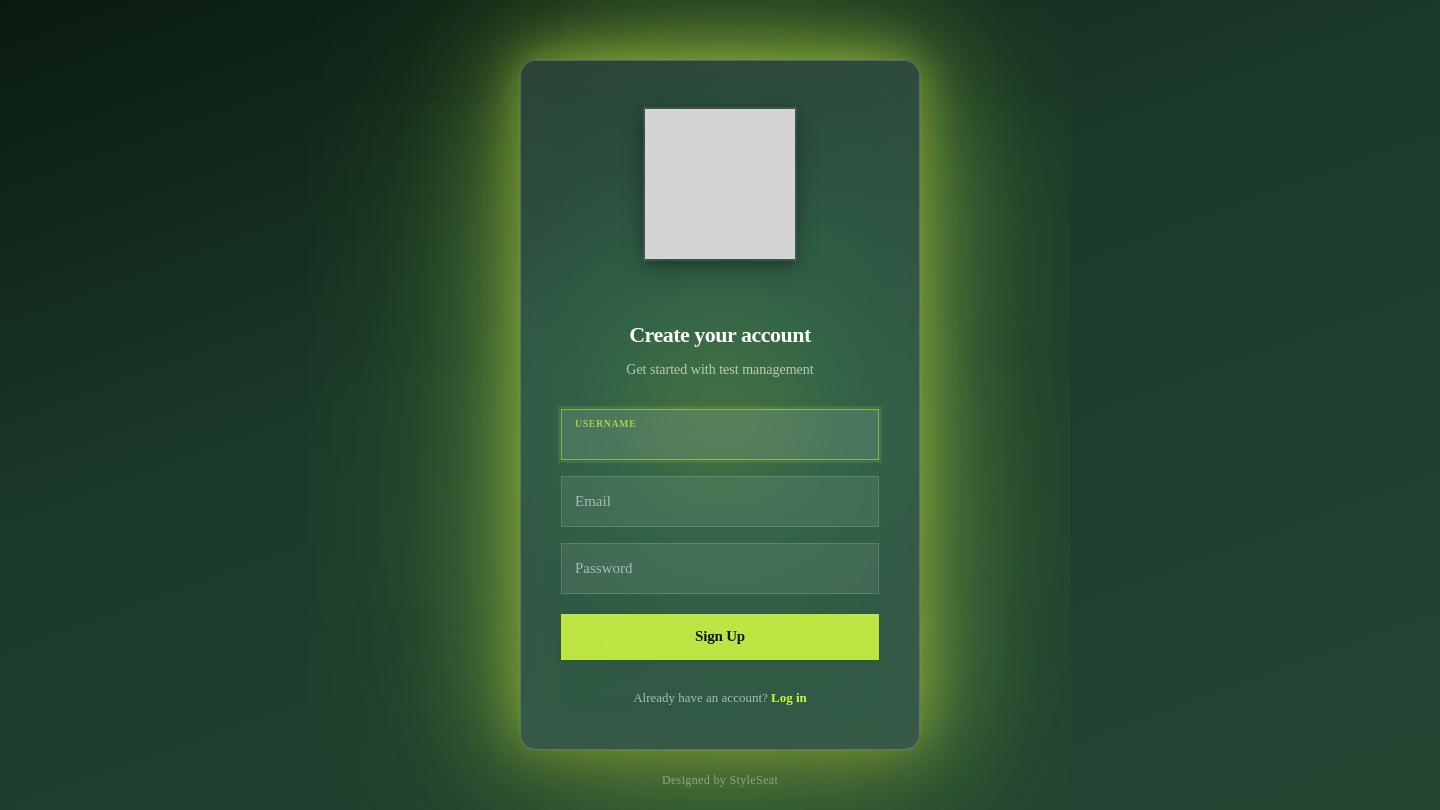
RegisterPage › shows fallback error when no response data
Type "newuser" into the field labelled "Username" at x=720, y=434, box x1=561 y1=409 x2=879 y2=460
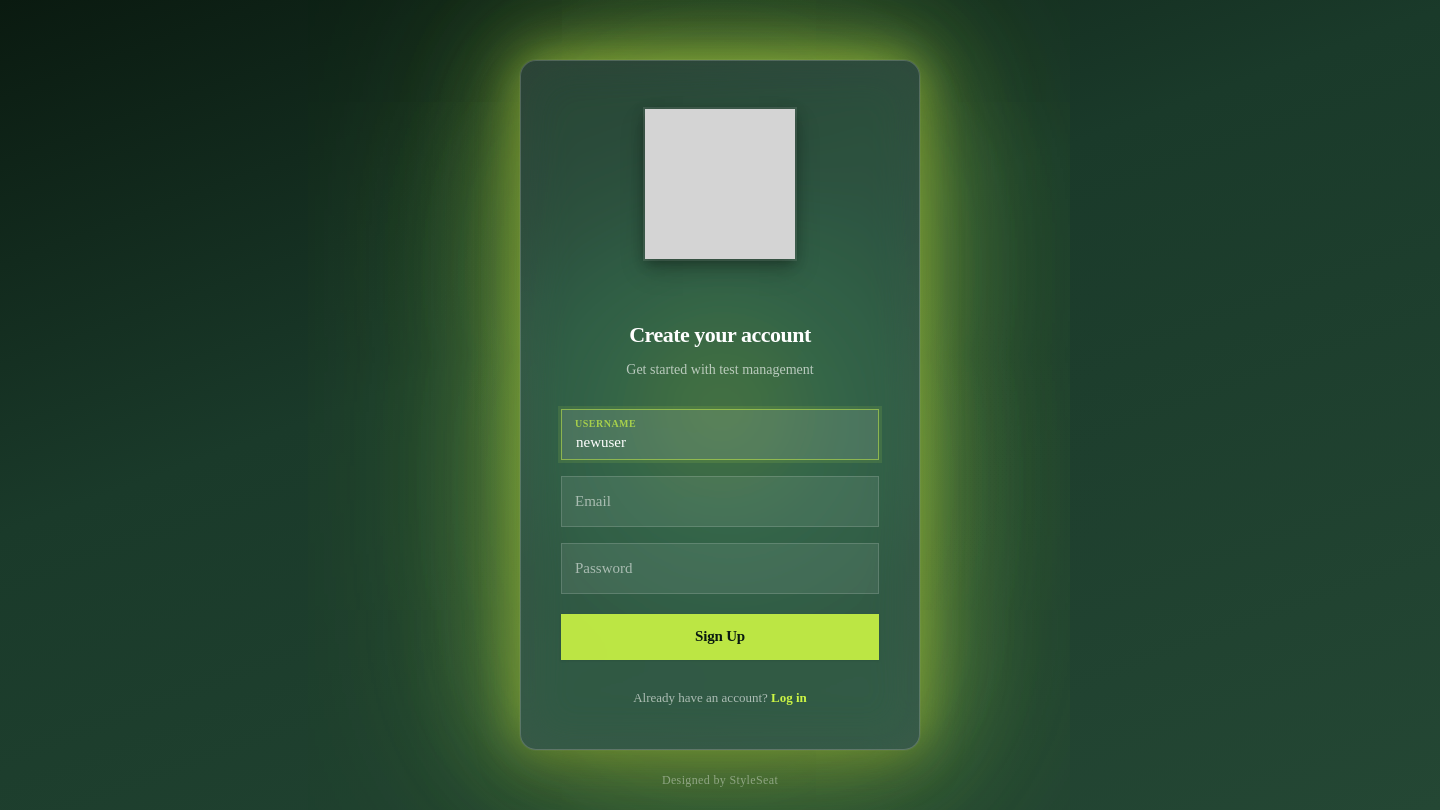
Type "new@styleseat.com" into the field labelled "Email" at x=720, y=501, box x1=561 y1=476 x2=879 y2=527
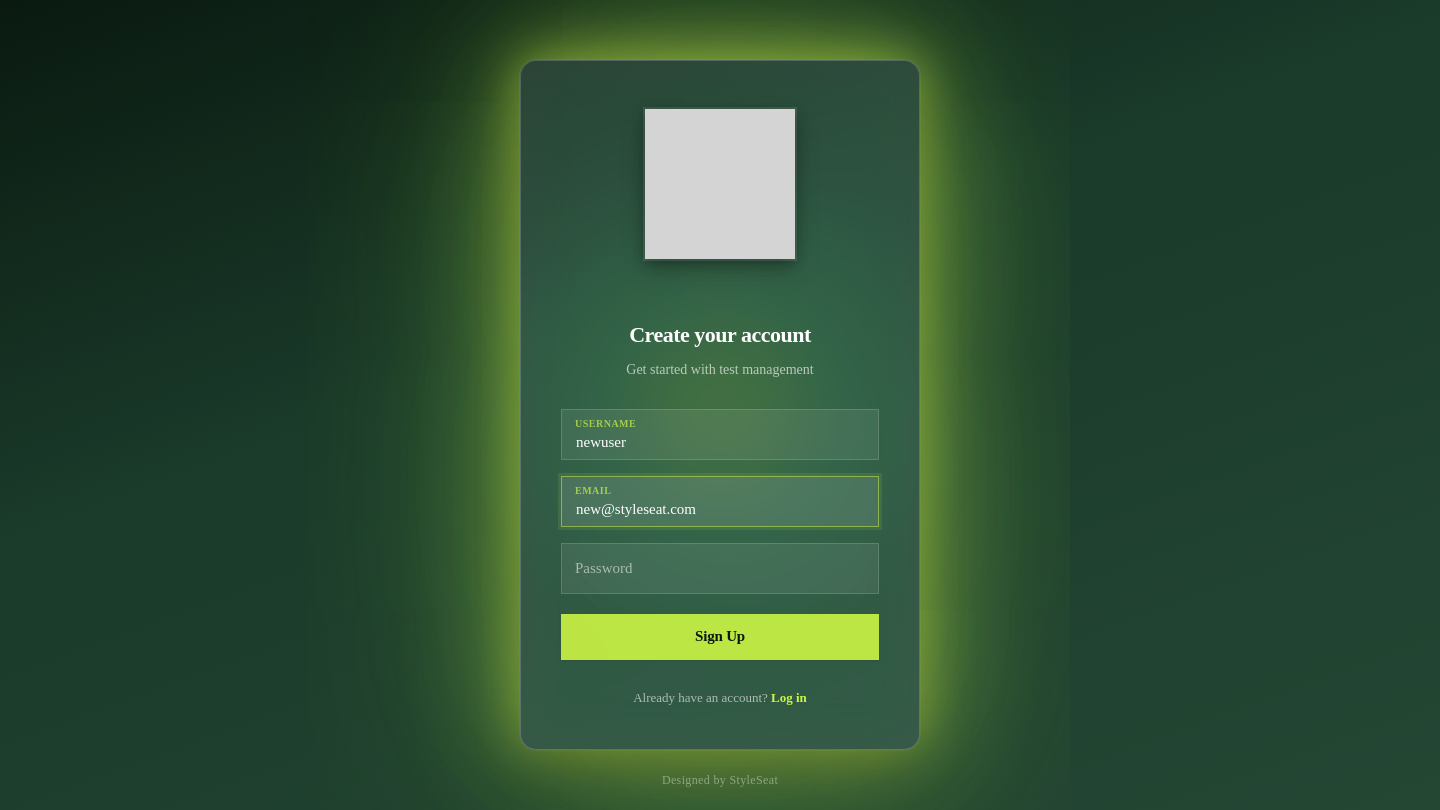
Type "Pass1234" into the password field labelled "Password" at x=720, y=568, box x1=561 y1=543 x2=879 y2=594
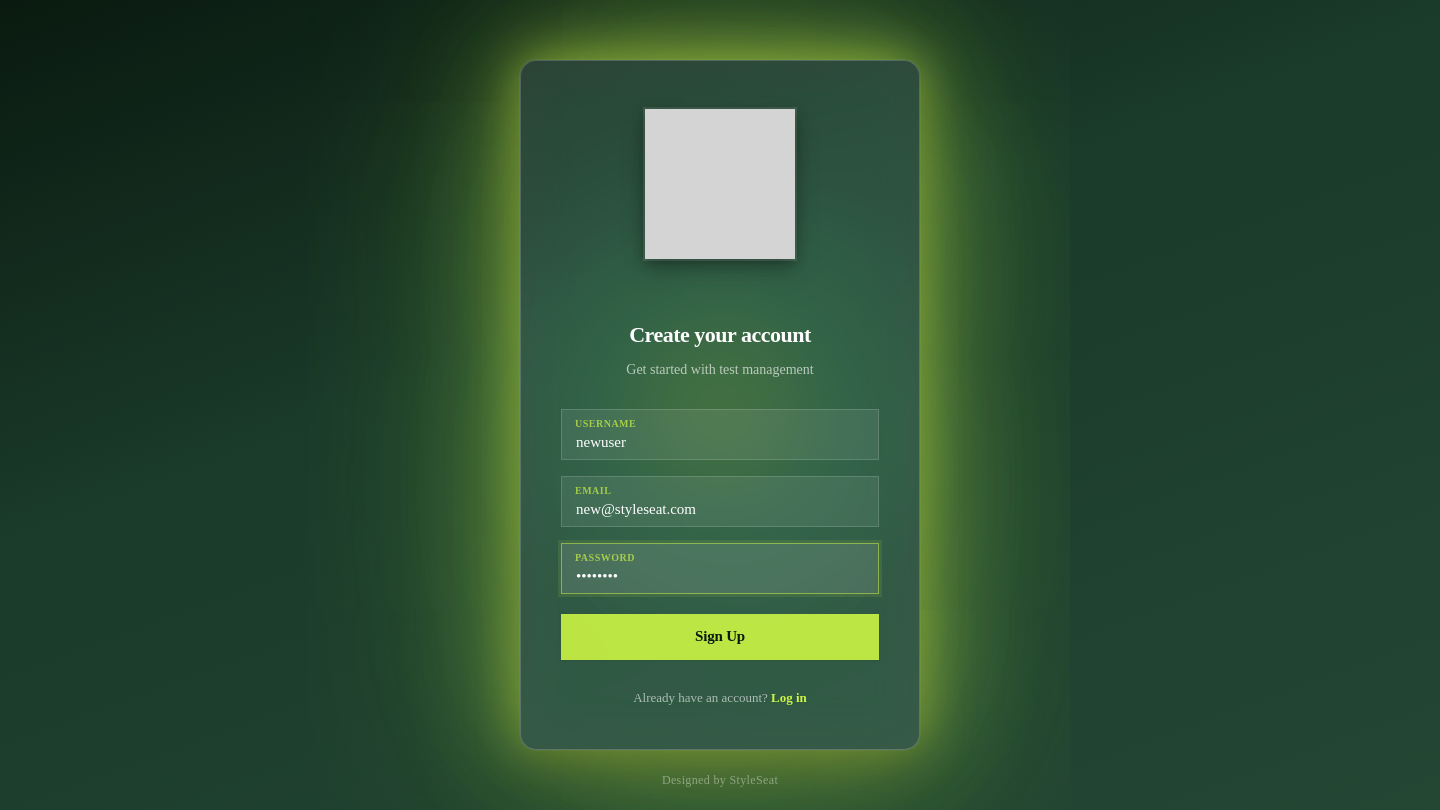
Click the button "Sign Up" at x=720, y=637, box x1=561 y1=614 x2=879 y2=660
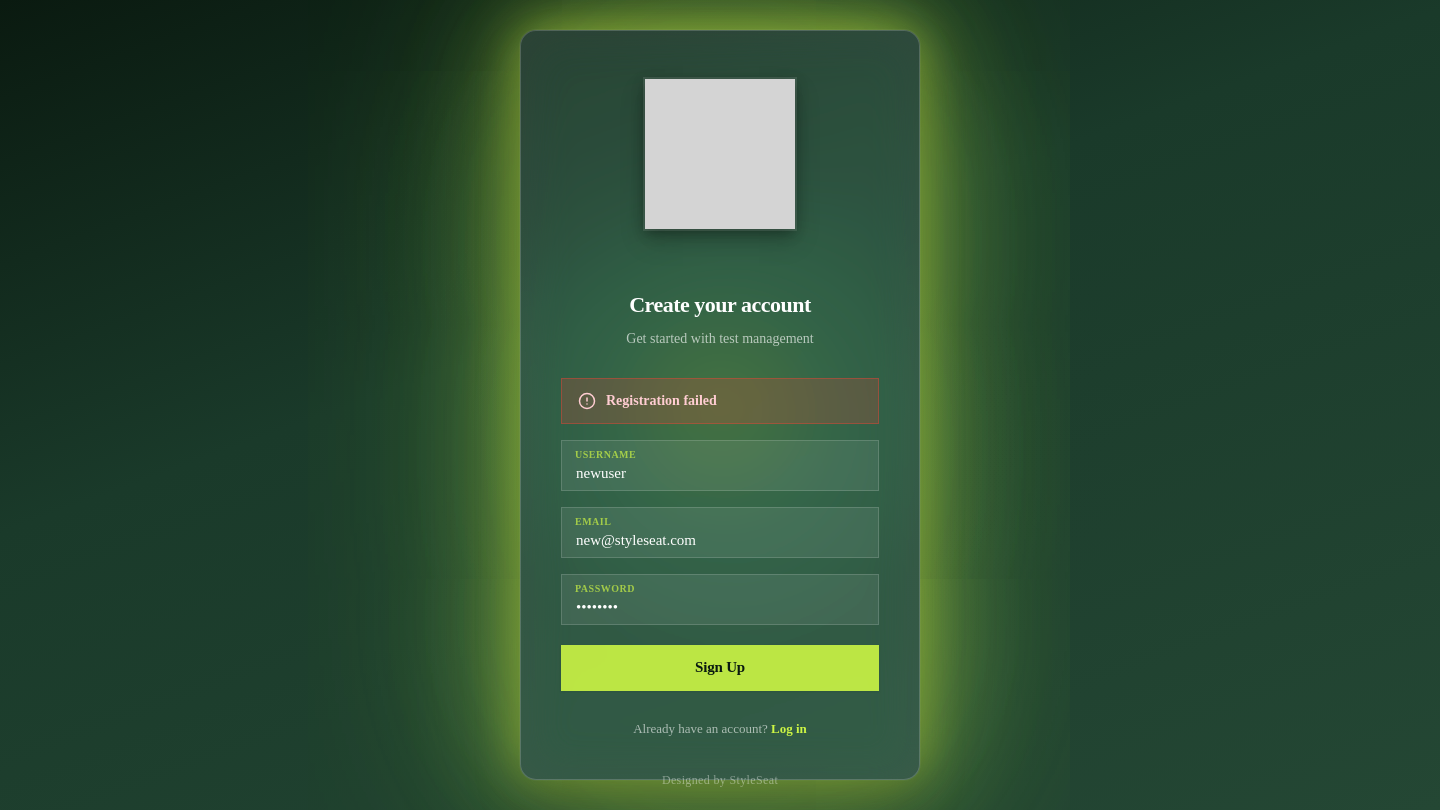
Expected: the text "Registration failed" is shown, x1=561 y1=378 x2=879 y2=424
